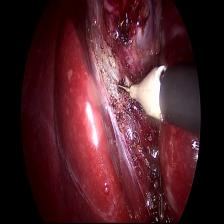Hook: (116, 61, 167, 122)
